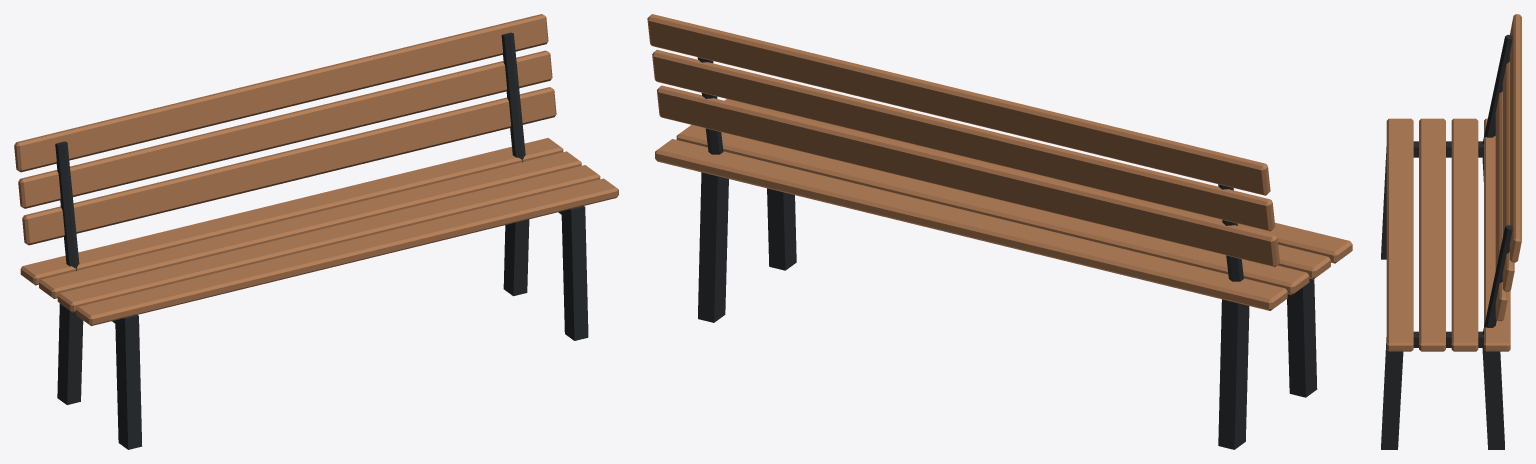
Rendered from bench.glb.
3 views of the same model, side by side, from view 1: azimuth 30°, elevation 25°; view 2: azimuth 150°, elevation 25°; view 3: azimuth 270°, elevation 25° (orthographic). The views are drawn at different scales.
Parts seen in each view (by area): view 1: bench; view 2: bench; view 3: bench.
Part boxes in pixels (<box>): bench: <box>14,14,618,449</box>; bench: <box>647,14,1352,449</box>; bench: <box>1381,14,1521,449</box>.
Size of the model in its own units: 1.9 by 0.8848 by 0.4999.
